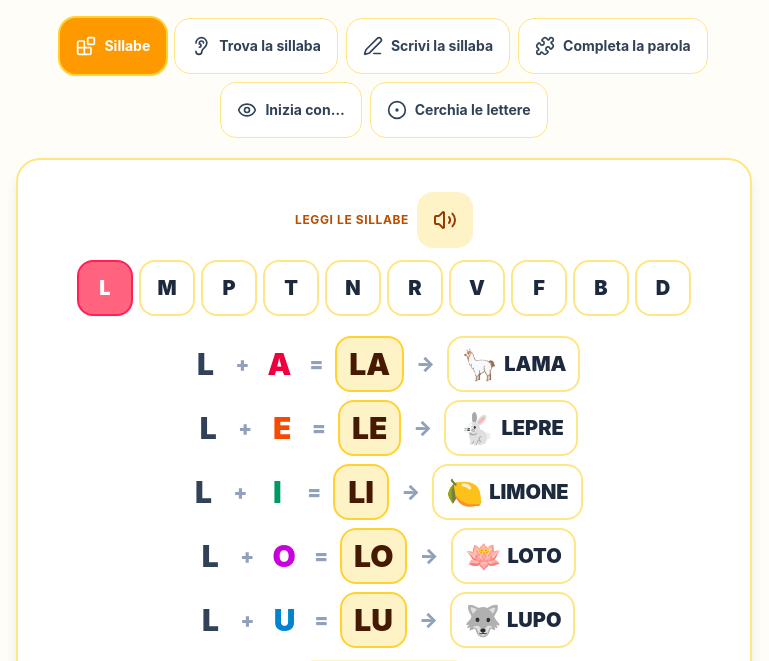
Scenario: Trova la sillaba › practises the inverse syllables too
Click the button "Trova la sillaba" at x=256, y=46, box [174,18,338,74]
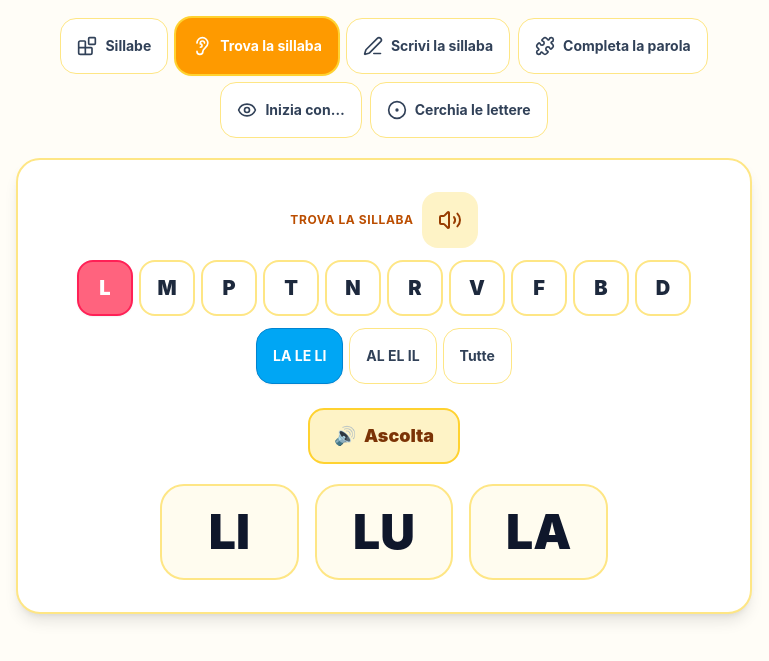
Click the button "AL EL IL" at x=393, y=356, box [349,328,437,384]
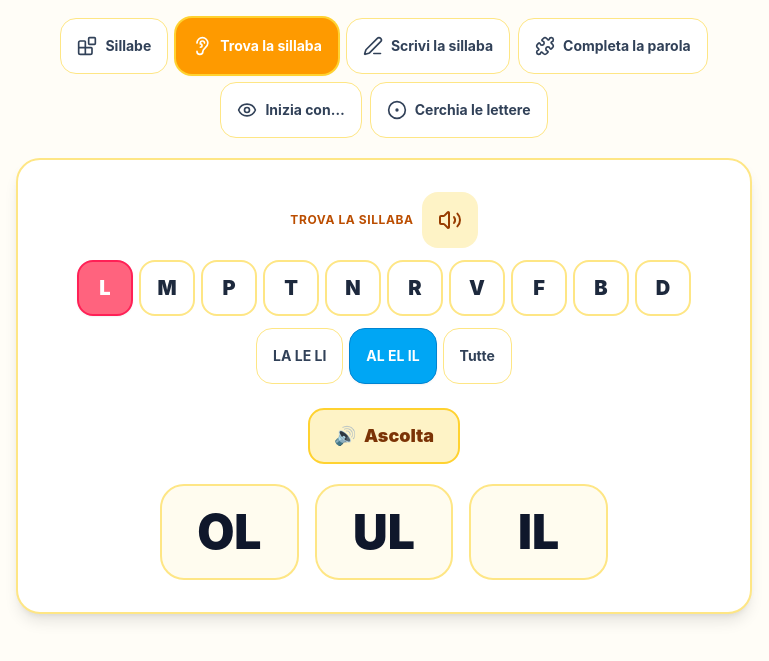
Expected: the button with aria-label "Sillaba " reads "OL", [160,484,299,580]
Expected: the button with aria-label "Sillaba " reads "UL", [315,484,453,580]
Expected: the button with aria-label "Sillaba " reads "IL", [469,484,608,580]
